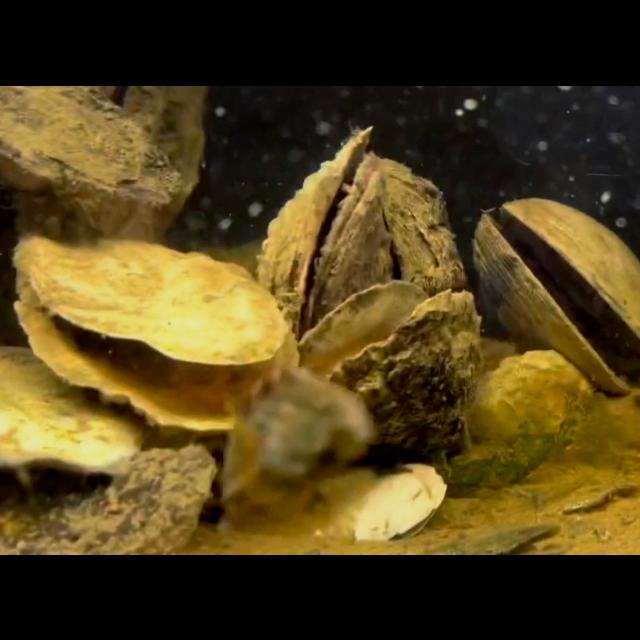Oyster-Closed: (0, 444, 218, 554), (435, 348, 593, 498), (0, 85, 184, 206), (0, 342, 146, 474), (376, 155, 466, 295)
Oyster-Open: (12, 232, 294, 430), (470, 196, 640, 398), (294, 279, 484, 459), (254, 122, 392, 332), (54, 85, 208, 251), (330, 462, 446, 544), (435, 523, 565, 555)
